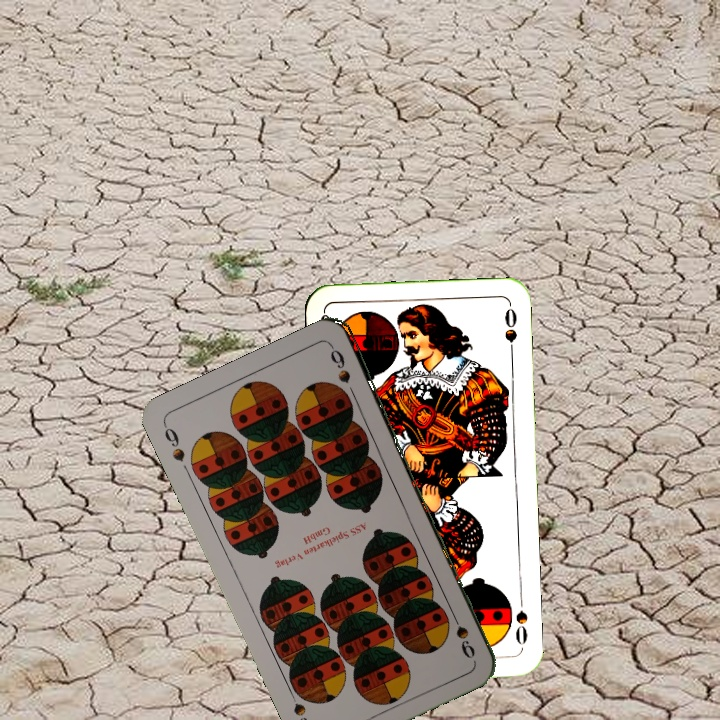S9: (446, 606, 478, 660), (159, 420, 188, 464)
SO: (511, 592, 530, 651)
